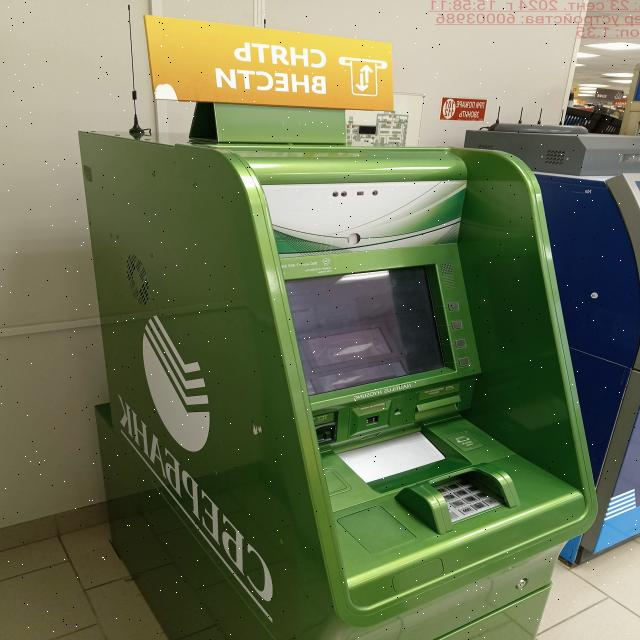bank: (80, 119, 594, 640)
